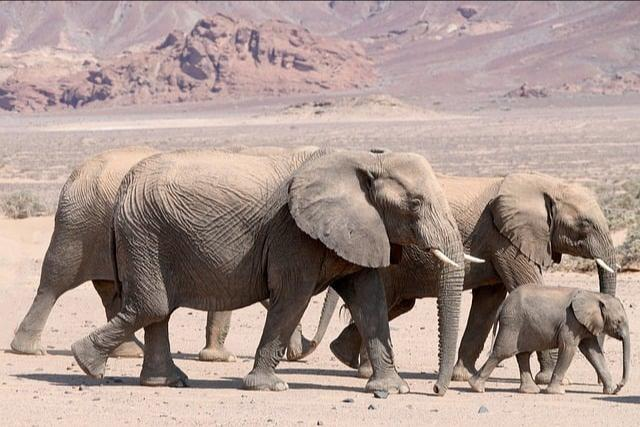Non_Gorille: (27, 66, 616, 409)
